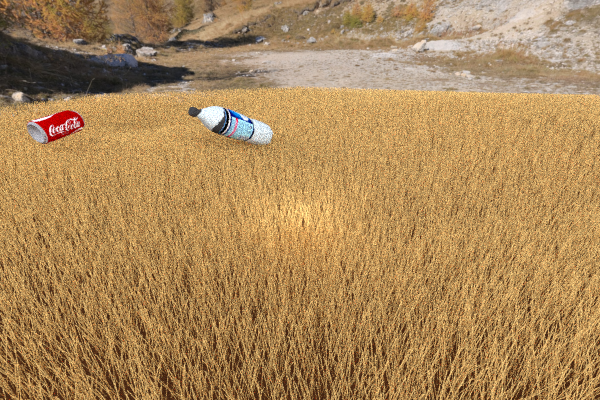bottle: (188, 106, 273, 145)
can: (27, 110, 85, 144), (333, 104, 376, 130)
